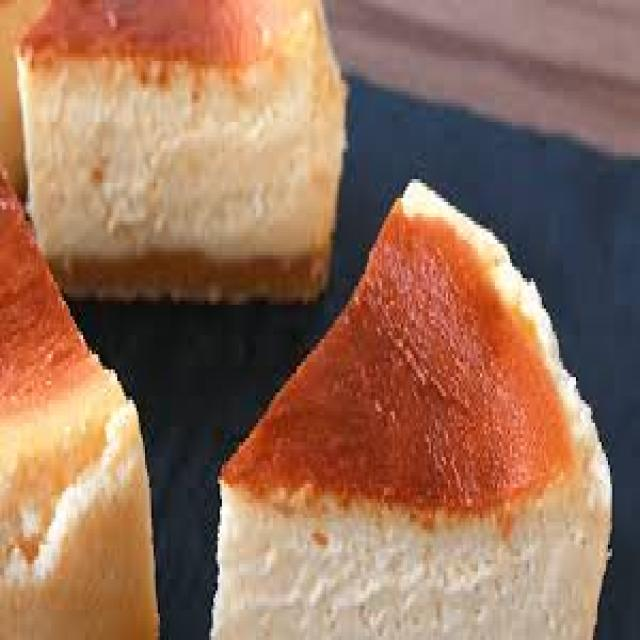cheesecake: (207, 175, 612, 636)
